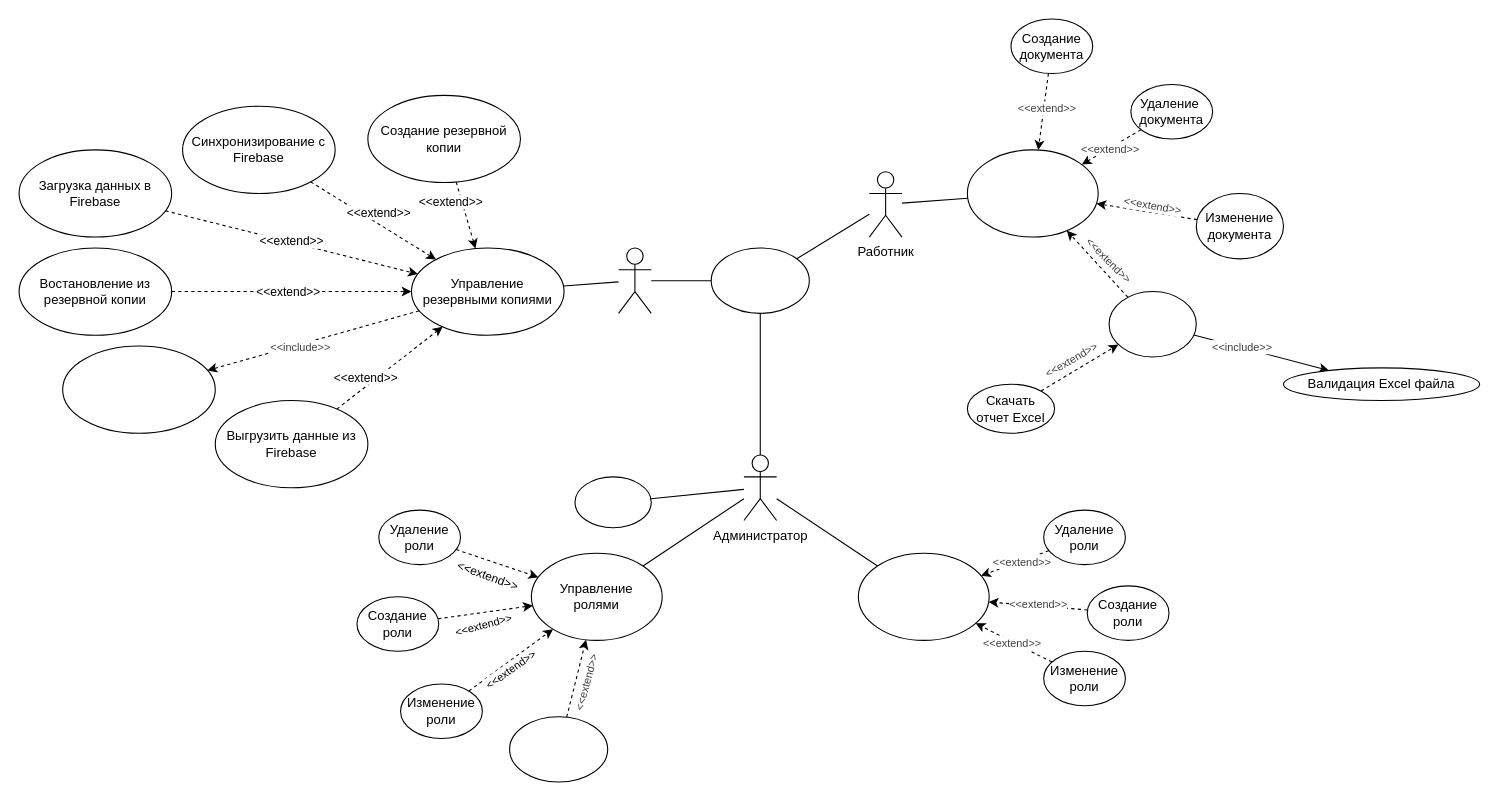
Image size: 1499x801. Some labels were removed from this diagram. The centre of each missing label's shape, as x and y in pixels:
Авторизация: (759,280)
Администратор базы данных: (634,280)
Настройка доступа: (558,749)
Проверка целостности копии: (138,389)
Просмотр логов: (612,502)
Работа с Excel: (1152,323)
Управление документами: (1032,193)
Управление пользователями: (923,596)
